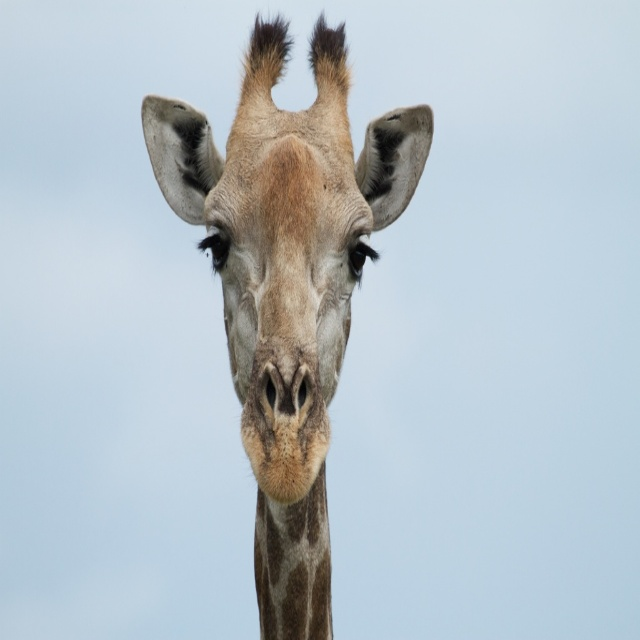Giraffe: (140, 12, 435, 639)
